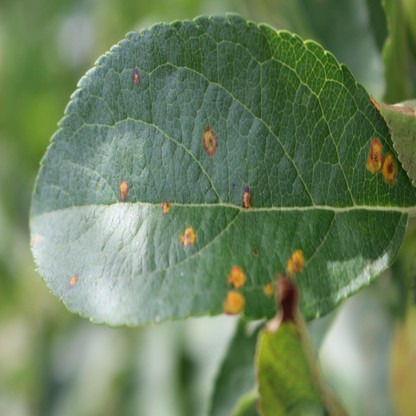rust: (366, 138, 384, 175), (222, 290, 245, 316), (201, 126, 218, 154), (382, 155, 396, 188), (227, 266, 247, 288), (288, 249, 306, 273), (181, 228, 197, 246), (120, 181, 128, 201), (244, 185, 251, 207), (66, 276, 77, 288), (263, 283, 273, 296), (162, 203, 171, 216), (368, 93, 377, 106), (30, 234, 39, 246), (134, 68, 140, 86), (253, 247, 258, 255)
